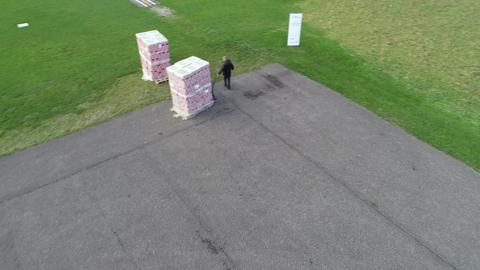RockwoolPallet: (134, 30, 171, 89)
